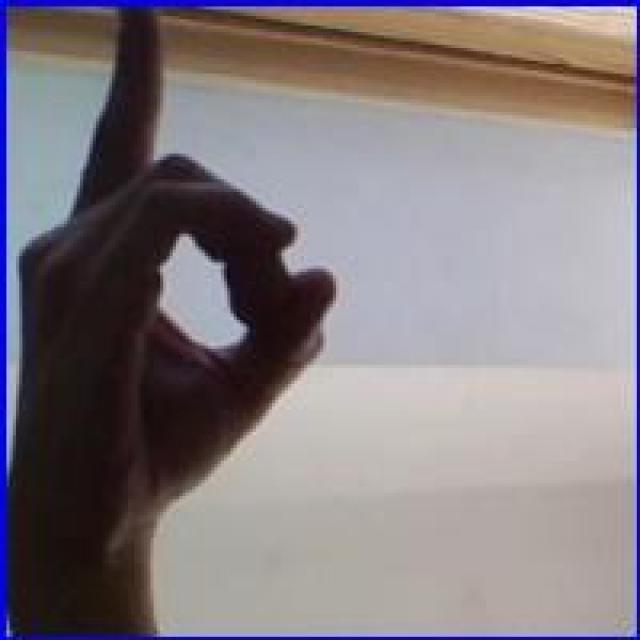D: (8, 9, 350, 620)
